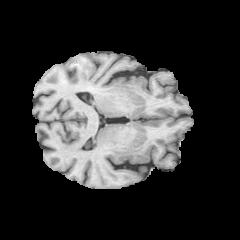glioma: (63, 54, 96, 83)
